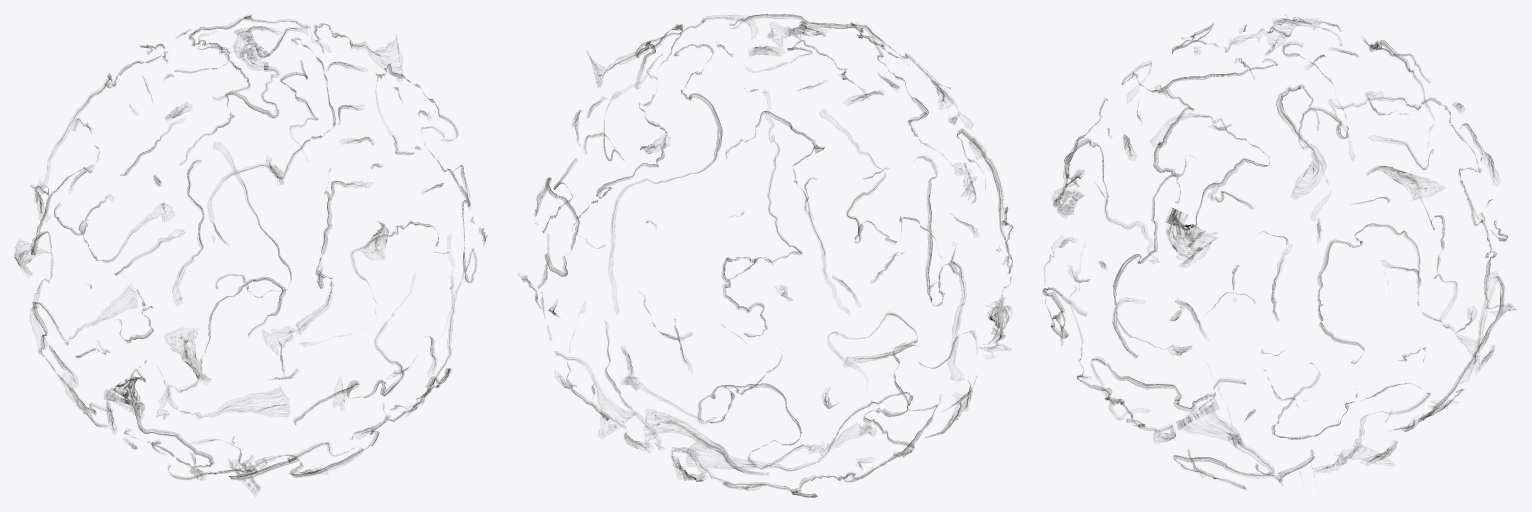
3 renders of one model, left to right at view 1: azimuth 30°, elevation 25°; view 2: azimuth 150°, elevation 25°; view 3: azimuth 270°, elevation 25°, orthographic. The views are drawn at different scales.
Parts seen in each view (by area): view 1: NewNetworkedLineRendererPrefab_1_Clone_; view 2: NewNetworkedLineRendererPrefab_1_Clone_; view 3: NewNetworkedLineRendererPrefab_1_Clone_.
Boxes of the visible parts, x1,y1,x2,y2 form: NewNetworkedLineRendererPrefab_1_Clone_: (14,15,487,494); NewNetworkedLineRendererPrefab_1_Clone_: (520,14,1013,497); NewNetworkedLineRendererPrefab_1_Clone_: (1042,16,1515,489).
Bounding box in the file's own units: 1.2 × 1.24 × 1.21.
Materials: 1 (1 with a texture image).
